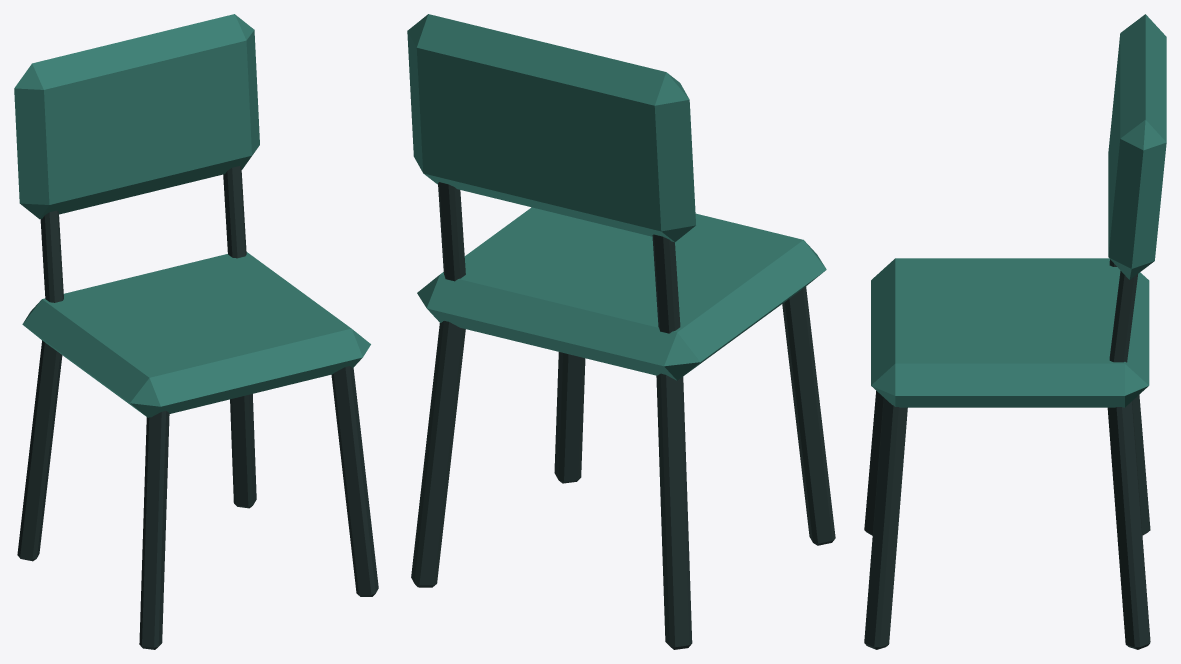
Rendered from student_chair.glb.
The picture shows the model from 3 angles, left to right: view 1: azimuth 30°, elevation 25°; view 2: azimuth 150°, elevation 25°; view 3: azimuth 270°, elevation 25°; orthographic projection. The views are drawn at different scales.
Parts seen in each view (by area): view 1: Assento, Pé tubular.004; view 2: Assento, Pé tubular.004; view 3: Assento, Pé tubular.004.
Boxes of the visible parts, x1=… form: Assento: x1=14, y1=14, x2=370, y2=417; Pé tubular.004: x1=17, y1=166, x2=378, y2=649; Assento: x1=407, y1=14, x2=826, y2=380; Pé tubular.004: x1=411, y1=182, x2=835, y2=649; Assento: x1=871, y1=14, x2=1166, y2=407; Pé tubular.004: x1=864, y1=259, x2=1150, y2=649.
Bounding box in the file's own units: 0.46 × 0.8931 × 0.4672.
